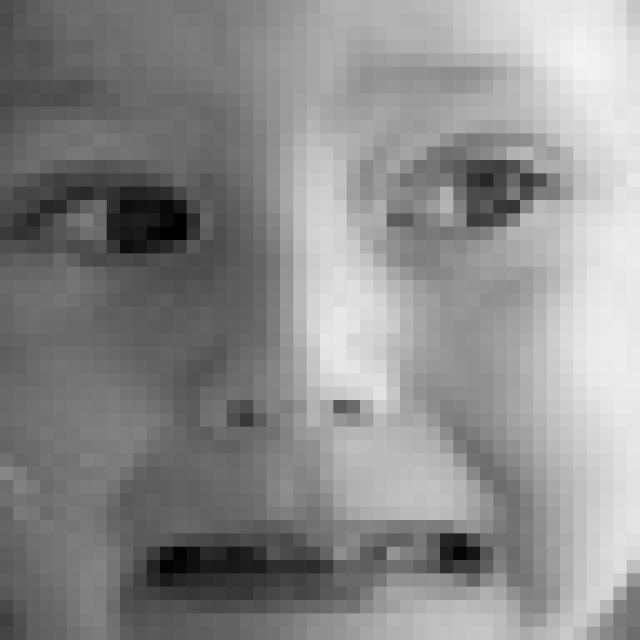fear: (10, 54, 640, 640)
